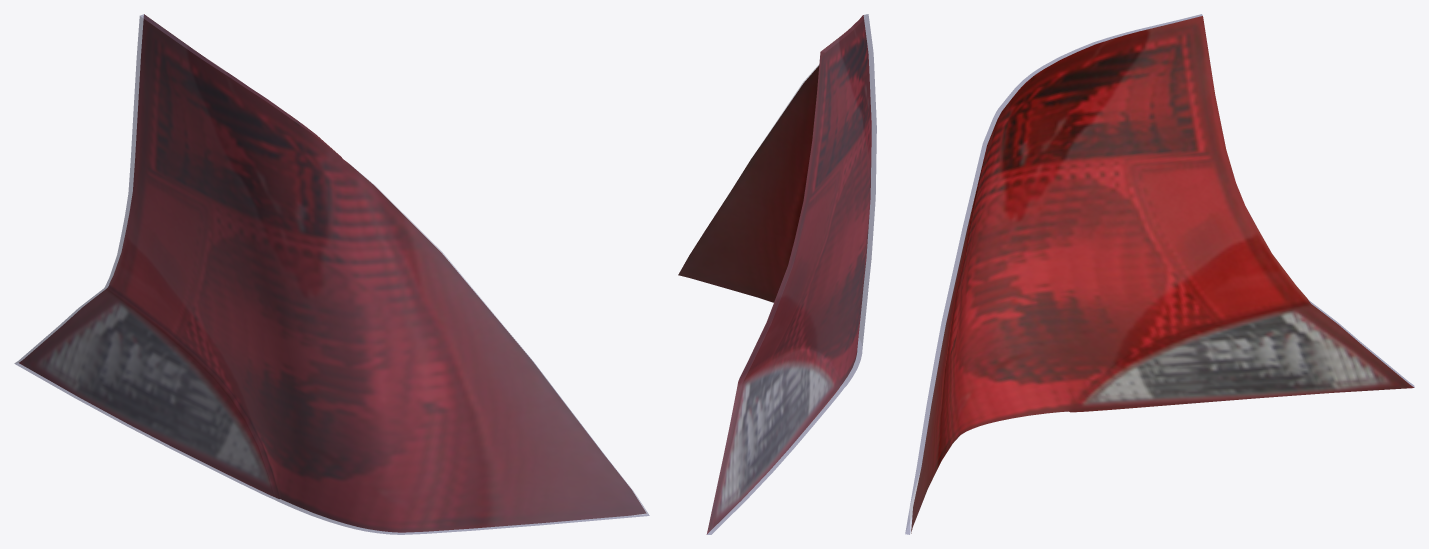
3 renders of one model, left to right at view 1: azimuth 30°, elevation 25°; view 2: azimuth 150°, elevation 25°; view 3: azimuth 270°, elevation 25°, orthographic. The views are drawn at different scales.
Visible parts, largest first — view 1: P157_541C_R_1_DTaSI_P157_541C_R, P157_541C_R_P157_541C_R_2_N; view 2: P157_541C_R_P157_541C_R_2_N, P157_541C_R_1_DTaSI_P157_541C_R; view 3: P157_541C_R_P157_541C_R_2_N, P157_541C_R_1_DTaSI_P157_541C_R.
Part boxes in pixels (x1=…): P157_541C_R_1_DTaSI_P157_541C_R: x1=14, y1=14, x2=649, y2=534; P157_541C_R_P157_541C_R_2_N: x1=19, y1=14, x2=646, y2=532; P157_541C_R_P157_541C_R_2_N: x1=678, y1=15, x2=871, y2=533; P157_541C_R_1_DTaSI_P157_541C_R: x1=707, y1=14, x2=876, y2=534; P157_541C_R_P157_541C_R_2_N: x1=911, y1=16, x2=1414, y2=533; P157_541C_R_1_DTaSI_P157_541C_R: x1=905, y1=14, x2=1414, y2=534.
Bounding box in the file's own units: 25.35 × 32.8 × 39.56.
